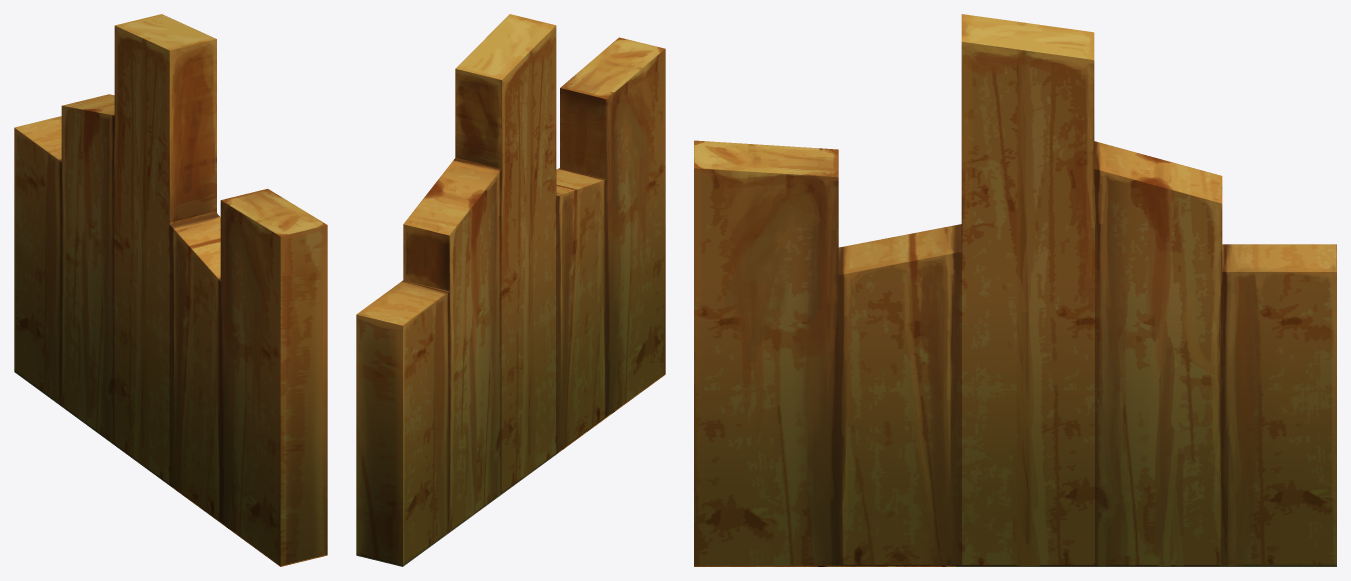
The model's file is Fence_A.fbx.
The picture shows the model from 3 angles, left to right: view 1: azimuth 30°, elevation 25°; view 2: azimuth 150°, elevation 25°; view 3: azimuth 270°, elevation 25°; orthographic projection. The views are drawn at different scales.
Visible parts, largest first — view 1: Fence_A; view 2: Fence_A; view 3: Fence_A.
Boxes of the visible parts, x1,y1,x2,y2 form: Fence_A: (14,14,327,566); Fence_A: (356,14,665,566); Fence_A: (694,14,1336,566).
Size of the model in its own units: 18.9 by 167 by 185.
